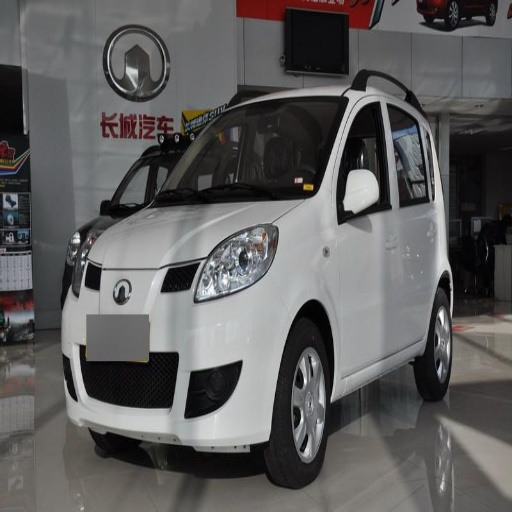front_bumper: (64, 256, 295, 451)
front_glass: (150, 100, 345, 206)
front_left_door: (337, 98, 404, 379)
